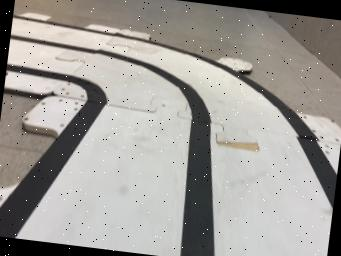street: (0, 13, 337, 256), (0, 13, 337, 256), (0, 13, 337, 256), (0, 13, 337, 256), (0, 13, 337, 256)
